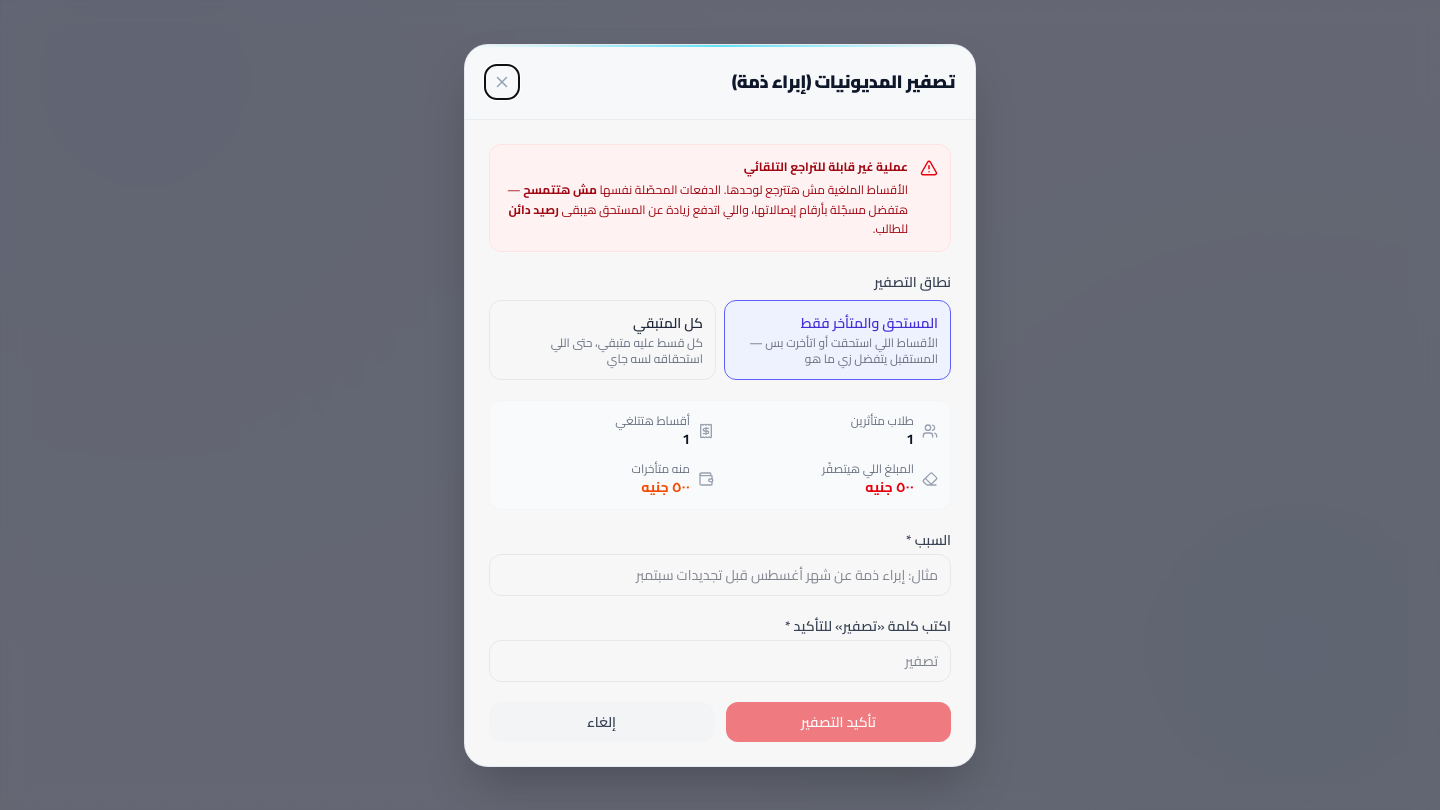
Test: نافذة تصفير المديونيات › تغيير النطاق لكل المتبقي بيحدّث الملخص
Click the text "كل المتبقي" at (668, 322), box [633,310,703,336]
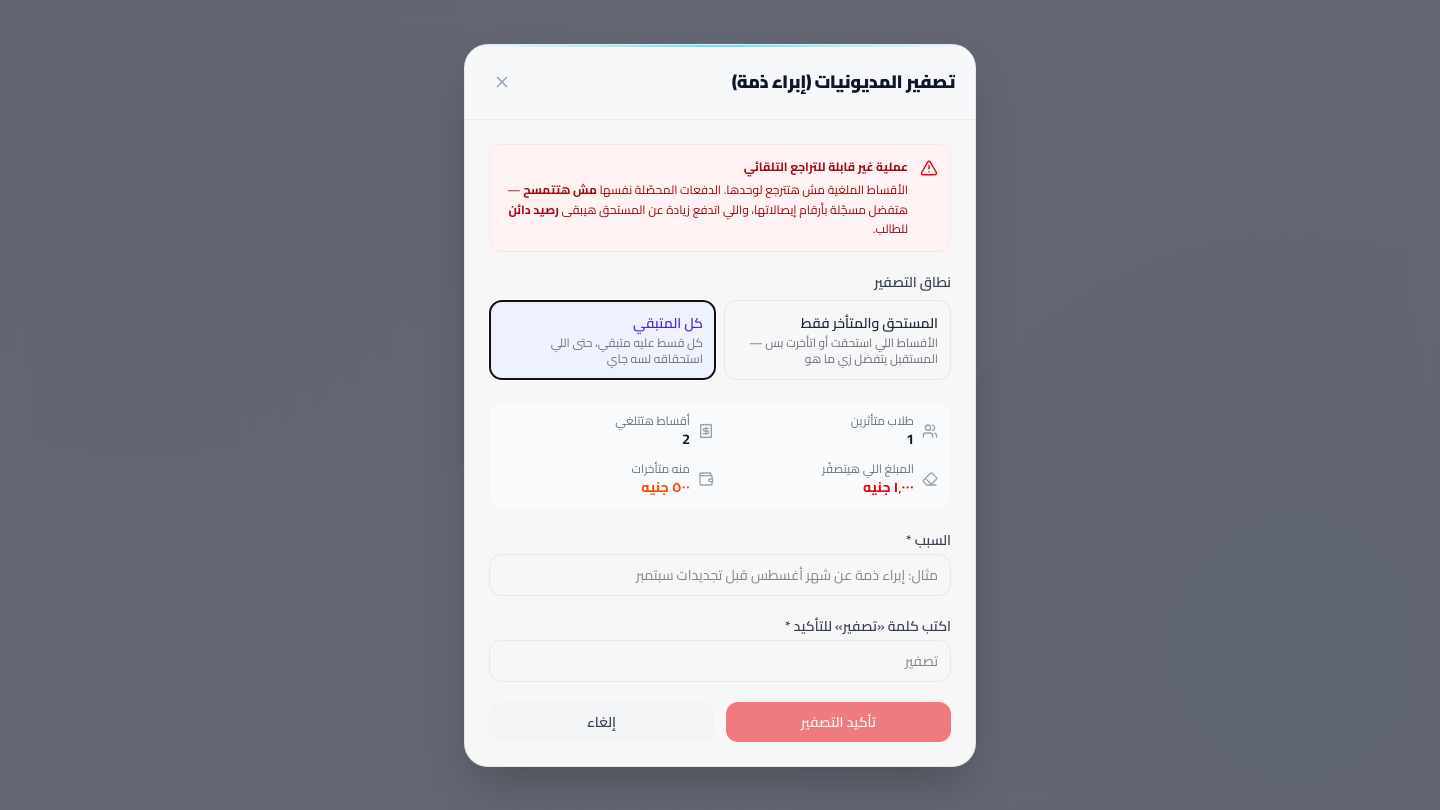
Check: the text with test id "writeoff-installments" reads "2", box [682,426,690,452]
